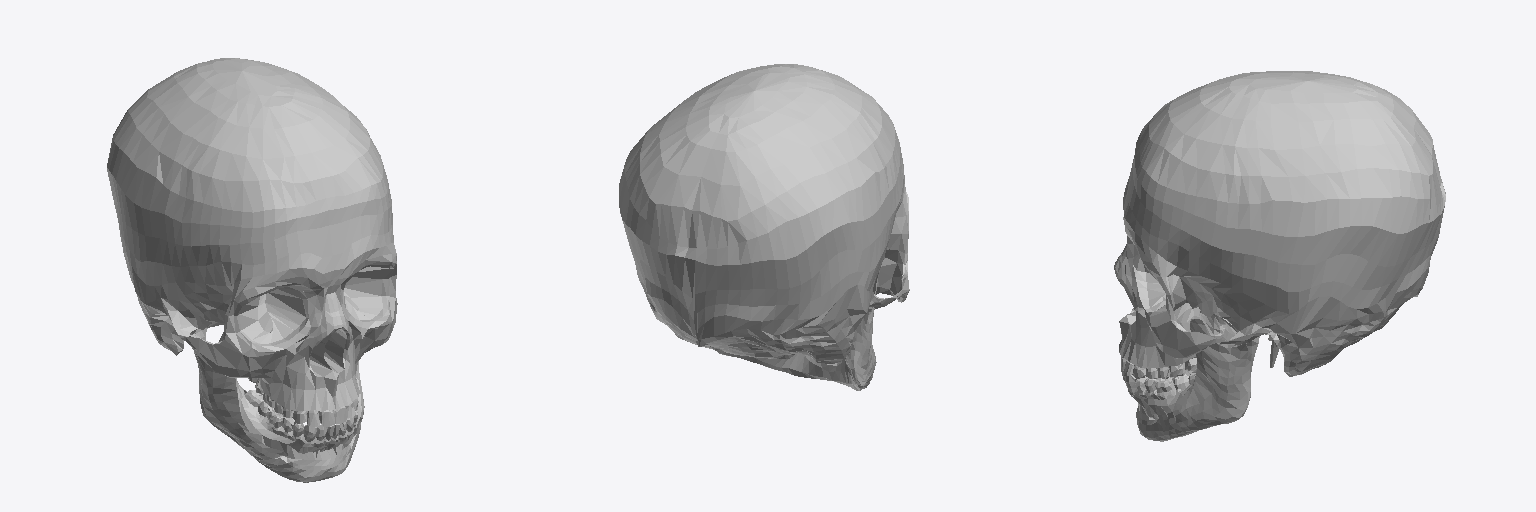
The model's file is skull.obj.
3 views of the same model, side by side, from view 1: azimuth 30°, elevation 25°; view 2: azimuth 150°, elevation 25°; view 3: azimuth 270°, elevation 25° (orthographic).
Parts seen in each view (by area): view 1: skull, jaw, lteeth, uteeth; view 2: skull, jaw; view 3: skull, jaw, lteeth, uteeth.
Part boxes in pixels (left/top/right/bottom): skull: left=107, top=58, right=397, bottom=414; jaw: left=189, top=328, right=364, bottom=482; lteeth: left=245, top=390, right=358, bottom=441; uteeth: left=248, top=378, right=357, bottom=426; skull: left=619, top=64, right=909, bottom=363; jaw: left=715, top=271, right=879, bottom=390; skull: left=1114, top=71, right=1445, bottom=376; jaw: left=1128, top=319, right=1259, bottom=441; lteeth: left=1121, top=371, right=1195, bottom=392; uteeth: left=1121, top=356, right=1196, bottom=378.
Size of the model in its own units: 4.96 by 7.32 by 6.3.